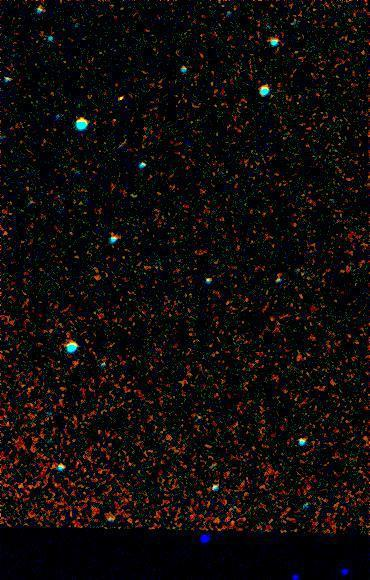star: (107, 85, 137, 115)
